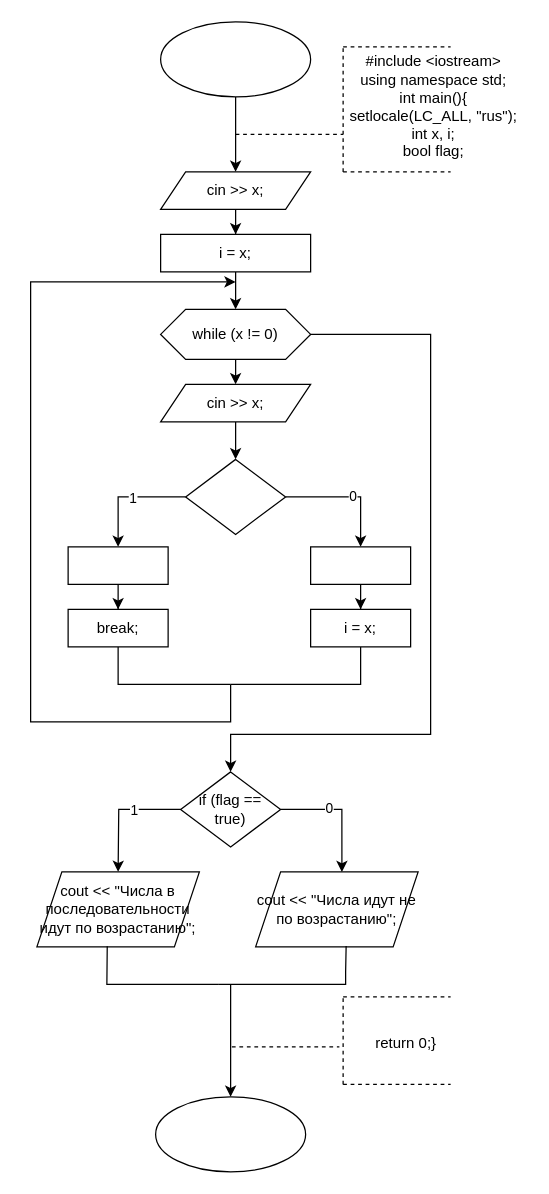
The diagram is 549 pixels wide and 1194 high, and some of its shapes have lost their labels. Here are the shapes that lost their labels. From the top down, the box of each, then its label:
(159, 21, 311, 97): Начало
(184, 458, 286, 534): if (i > x && x!=0)
(67, 546, 168, 584): flag = false;
(309, 546, 411, 584): flag = true;
(154, 1096, 306, 1172): Конец
